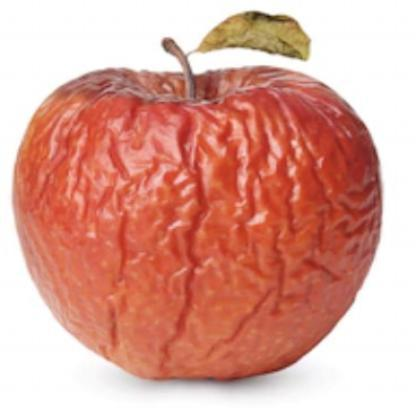apple_rotten: (6, 4, 400, 392)
